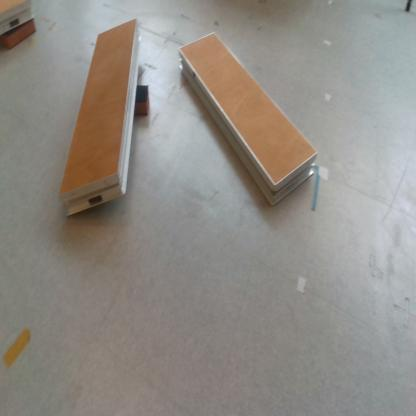Stairs: (180, 33, 319, 209), (59, 19, 142, 222), (1, 1, 37, 39)
